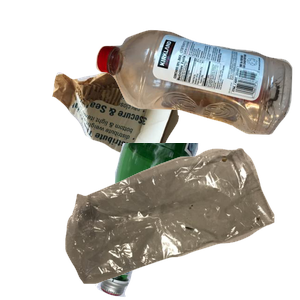cardboard: (50, 62, 228, 226)
glass: (93, 143, 284, 300)
plastic: (93, 27, 300, 154)
trash: (63, 145, 300, 300)
